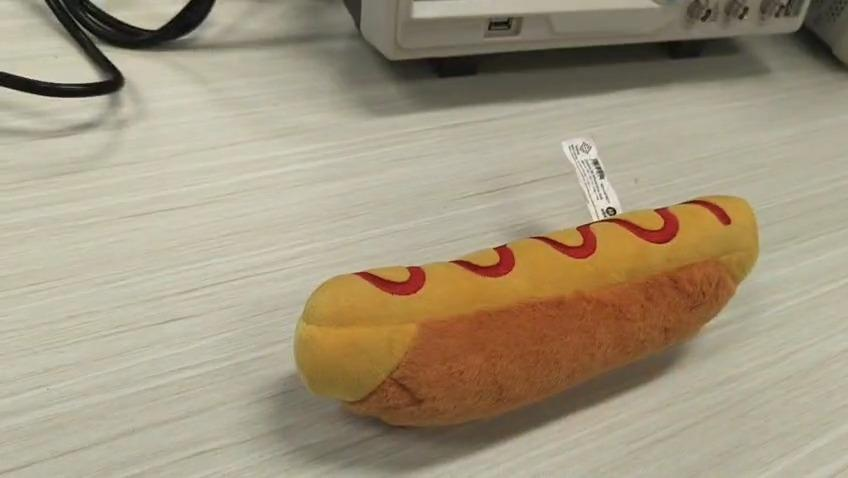hotdog: (292, 192, 759, 428)
